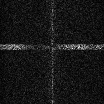wifi: (1, 44, 104, 49)
